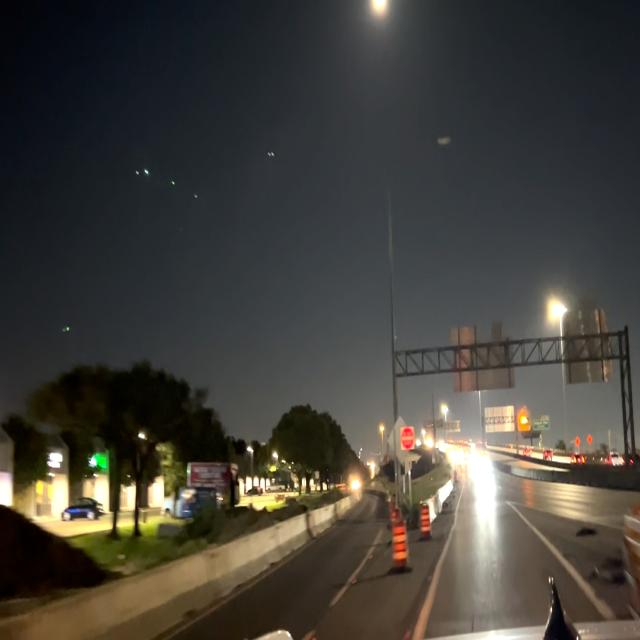back-of-sign: (446, 316, 518, 393), (559, 304, 615, 388), (486, 405, 516, 436), (444, 416, 461, 437)
